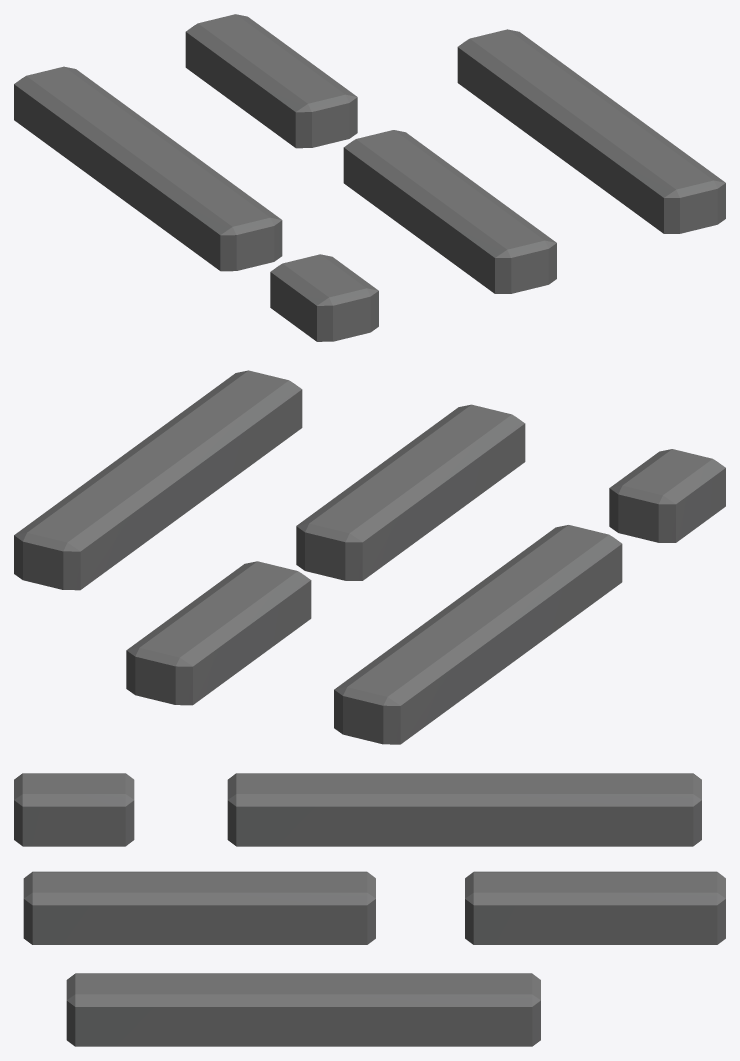
The model's file is Signs_1_3.glb.
3 renders of one model, top to bottom at view 1: azimuth 30°, elevation 25°; view 2: azimuth 150°, elevation 25°; view 3: azimuth 270°, elevation 25°, orthographic. The views are drawn at different scales.
Parts seen in each view (by area): view 1: Signs_1_3; view 2: Signs_1_3; view 3: Signs_1_3.
Part boxes in pixels (x1,y1,x2,y2): Signs_1_3: (14,14,725,341); Signs_1_3: (14,370,725,744); Signs_1_3: (14,773,725,1046).
Size of the model in its own units: 0.3627 by 0.0331 by 0.4668.
1 material, 1 textured.
